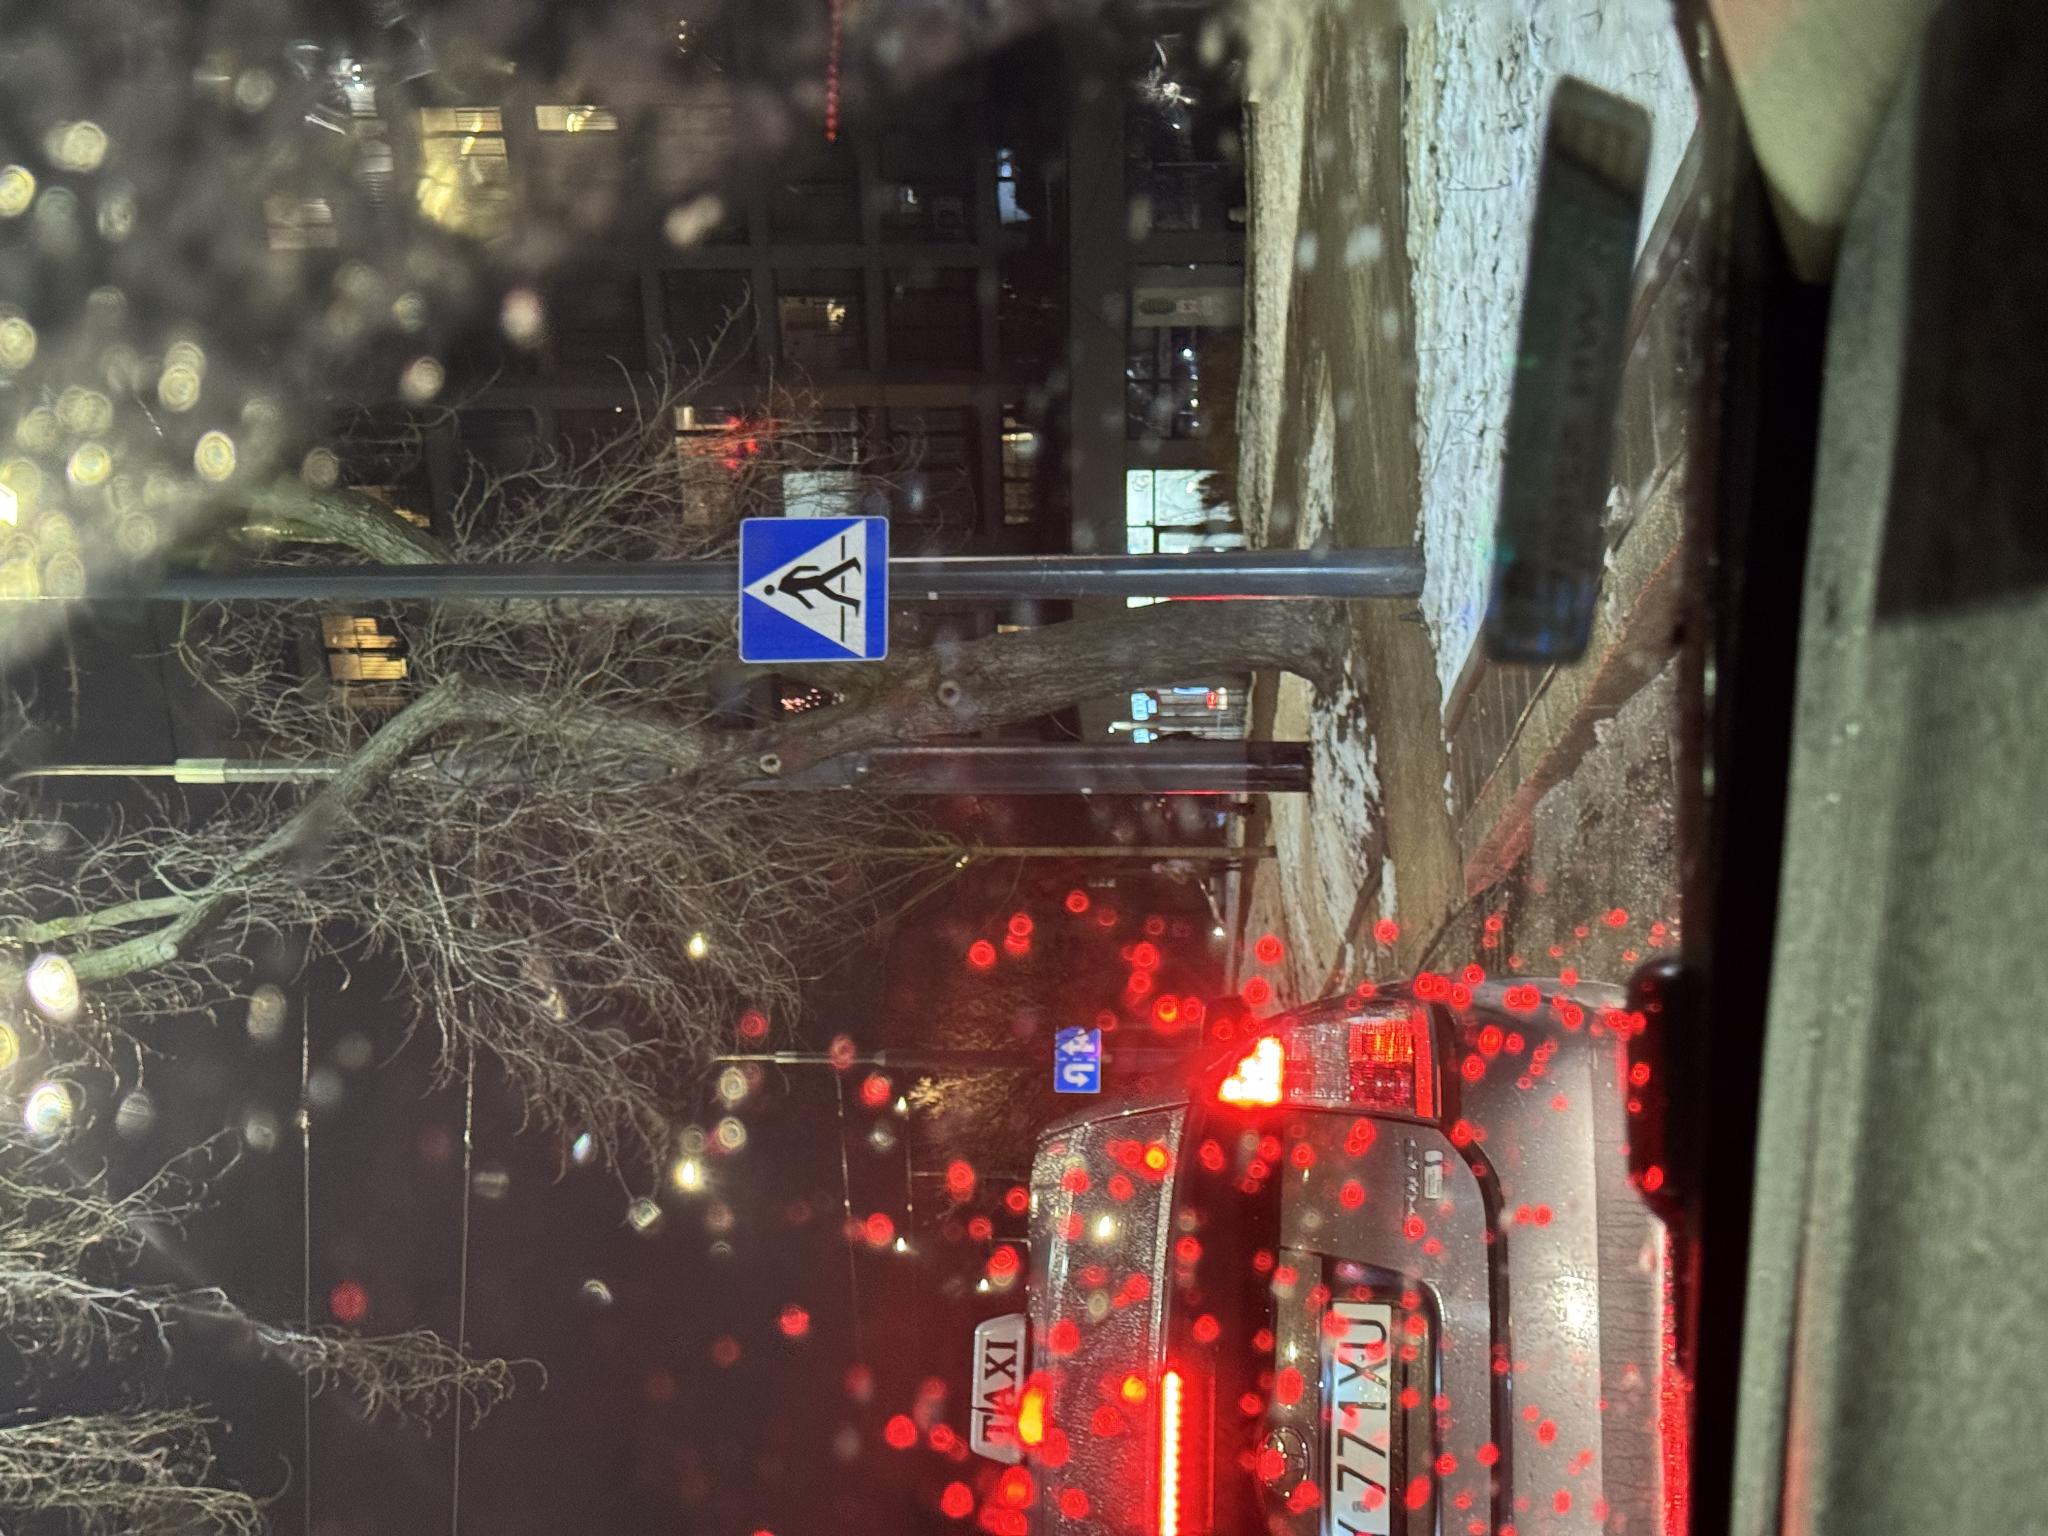information: (872, 737, 1022, 891)
other: (443, 1054, 510, 1102)
